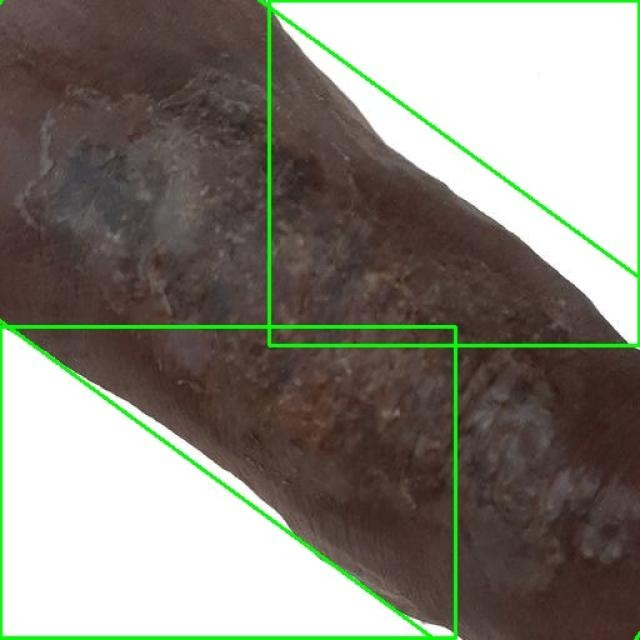Contact Dermatitis: (0, 0, 640, 640), (0, 328, 456, 639), (269, 0, 639, 345)
